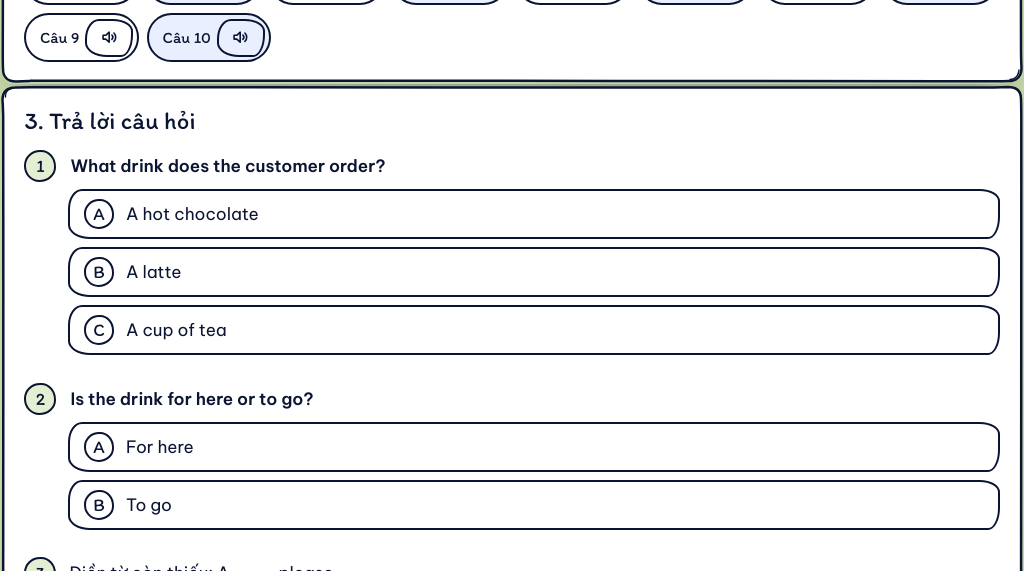
Scenario: Listening quiz › grades answers, reveals transcript and saves the result
(page scrolled)
Expected: the text "I'd like a latte, please." is not shown
Click the radio button labelled "A latte". click: (154, 272)
box: [68,247,1000,297]
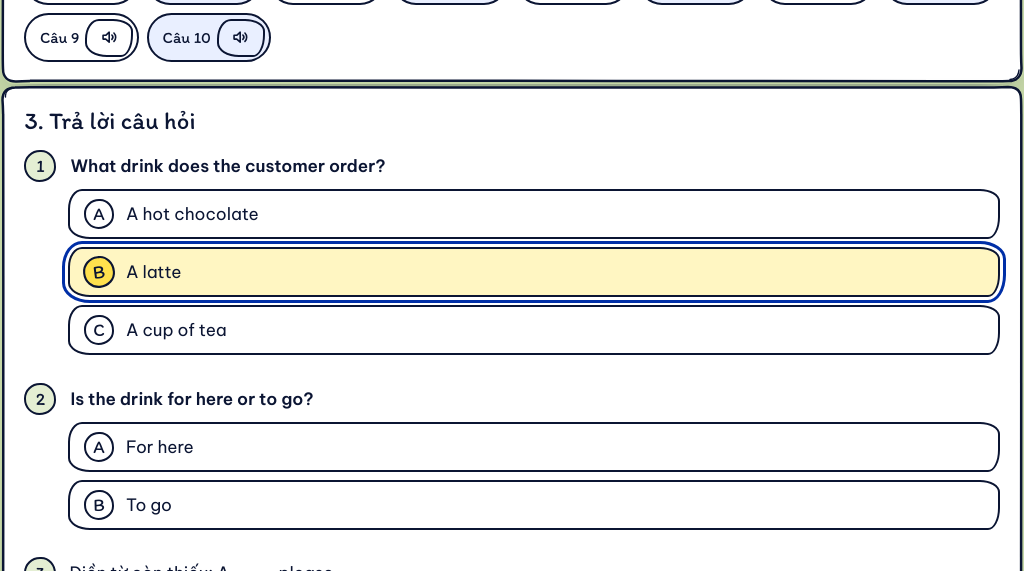
Click the radio button labelled "For here". click: (160, 447)
box: [68,422,1000,472]
(page scrolled)
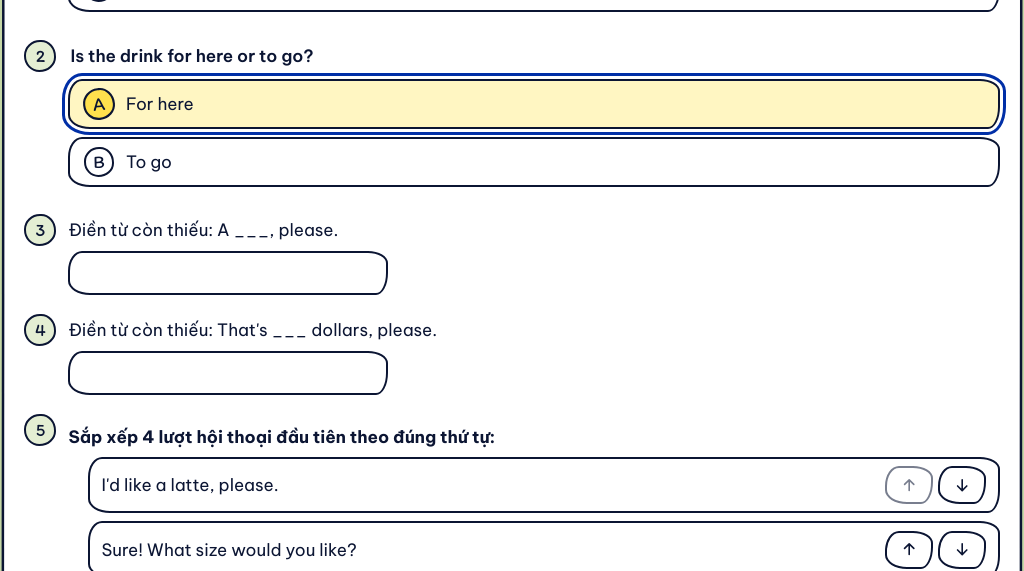
Type "medium" into the field labelled "Điền từ còn thiếu: A ___, please.". click: (228, 273)
box: [68,251,388,295]
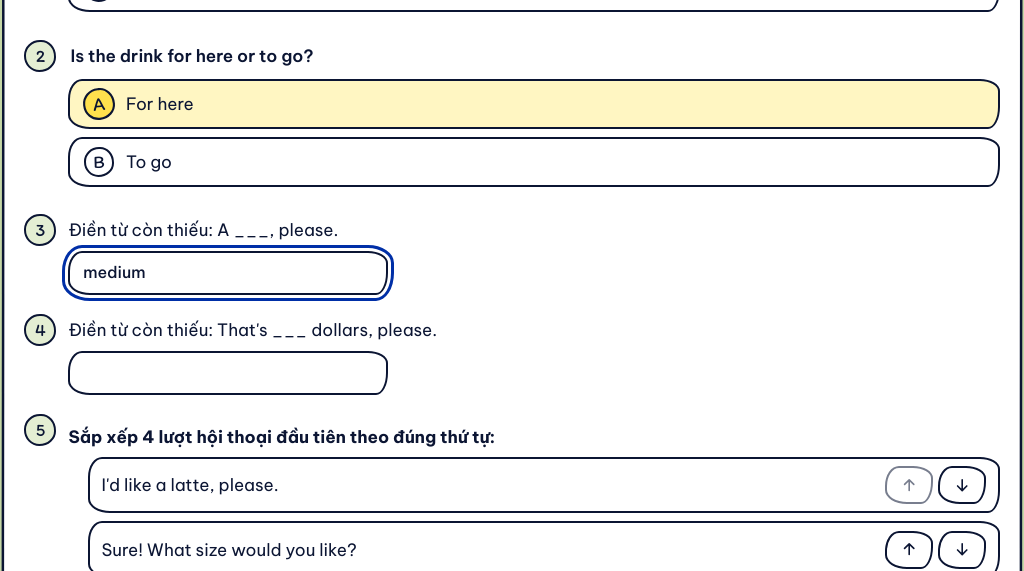
Type "four" into the field labelled "Điền từ còn thiếu: That's ___ dollars, please.". click: (228, 373)
box: [68,351,388,395]
(page scrolled)
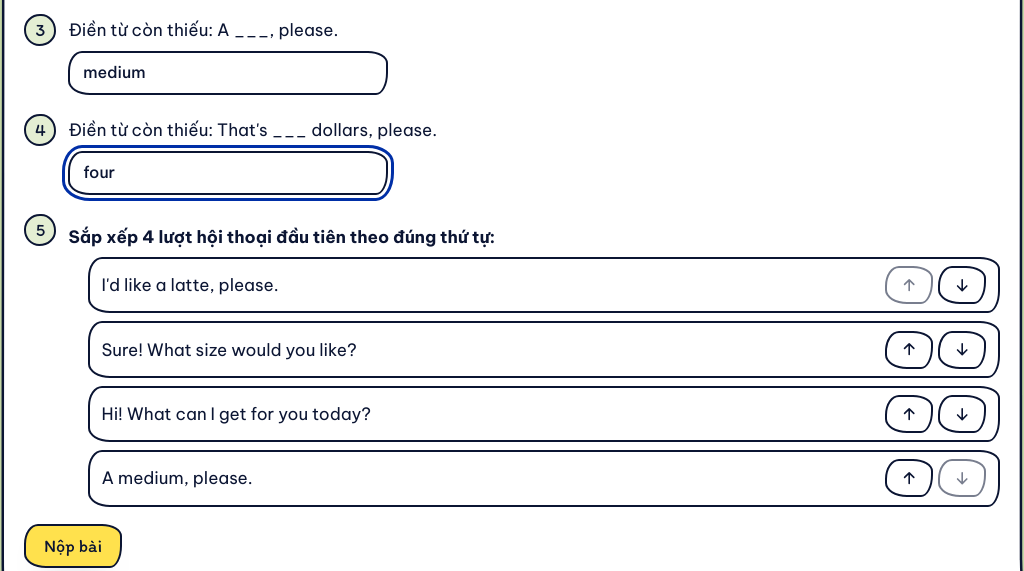
Click the button "Nộp bài". click: (73, 546)
box: [24,524,122,568]
(page scrolled)
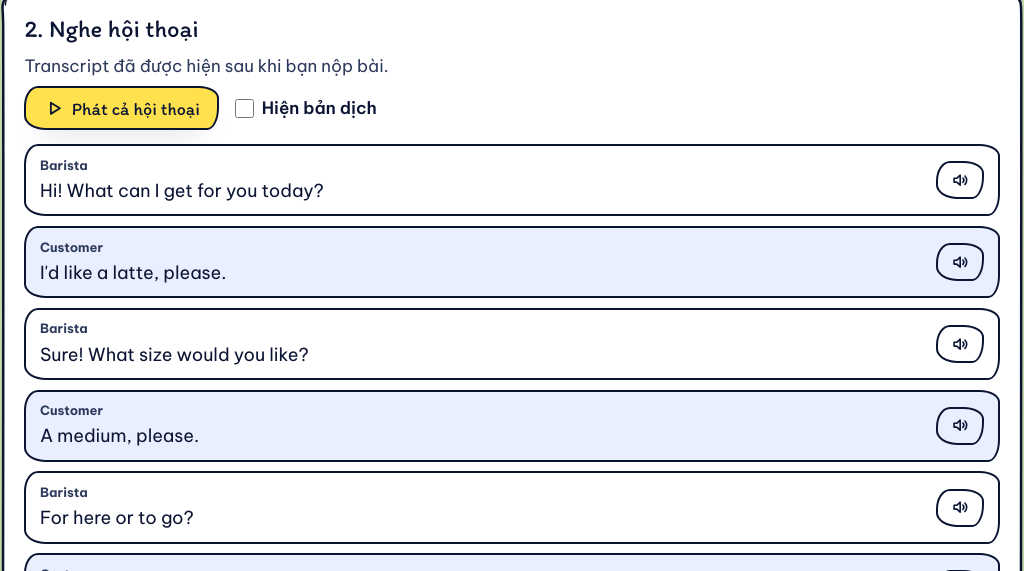
Now the text "I'd like a latte, please." is shown, box [40,261,226,284]
